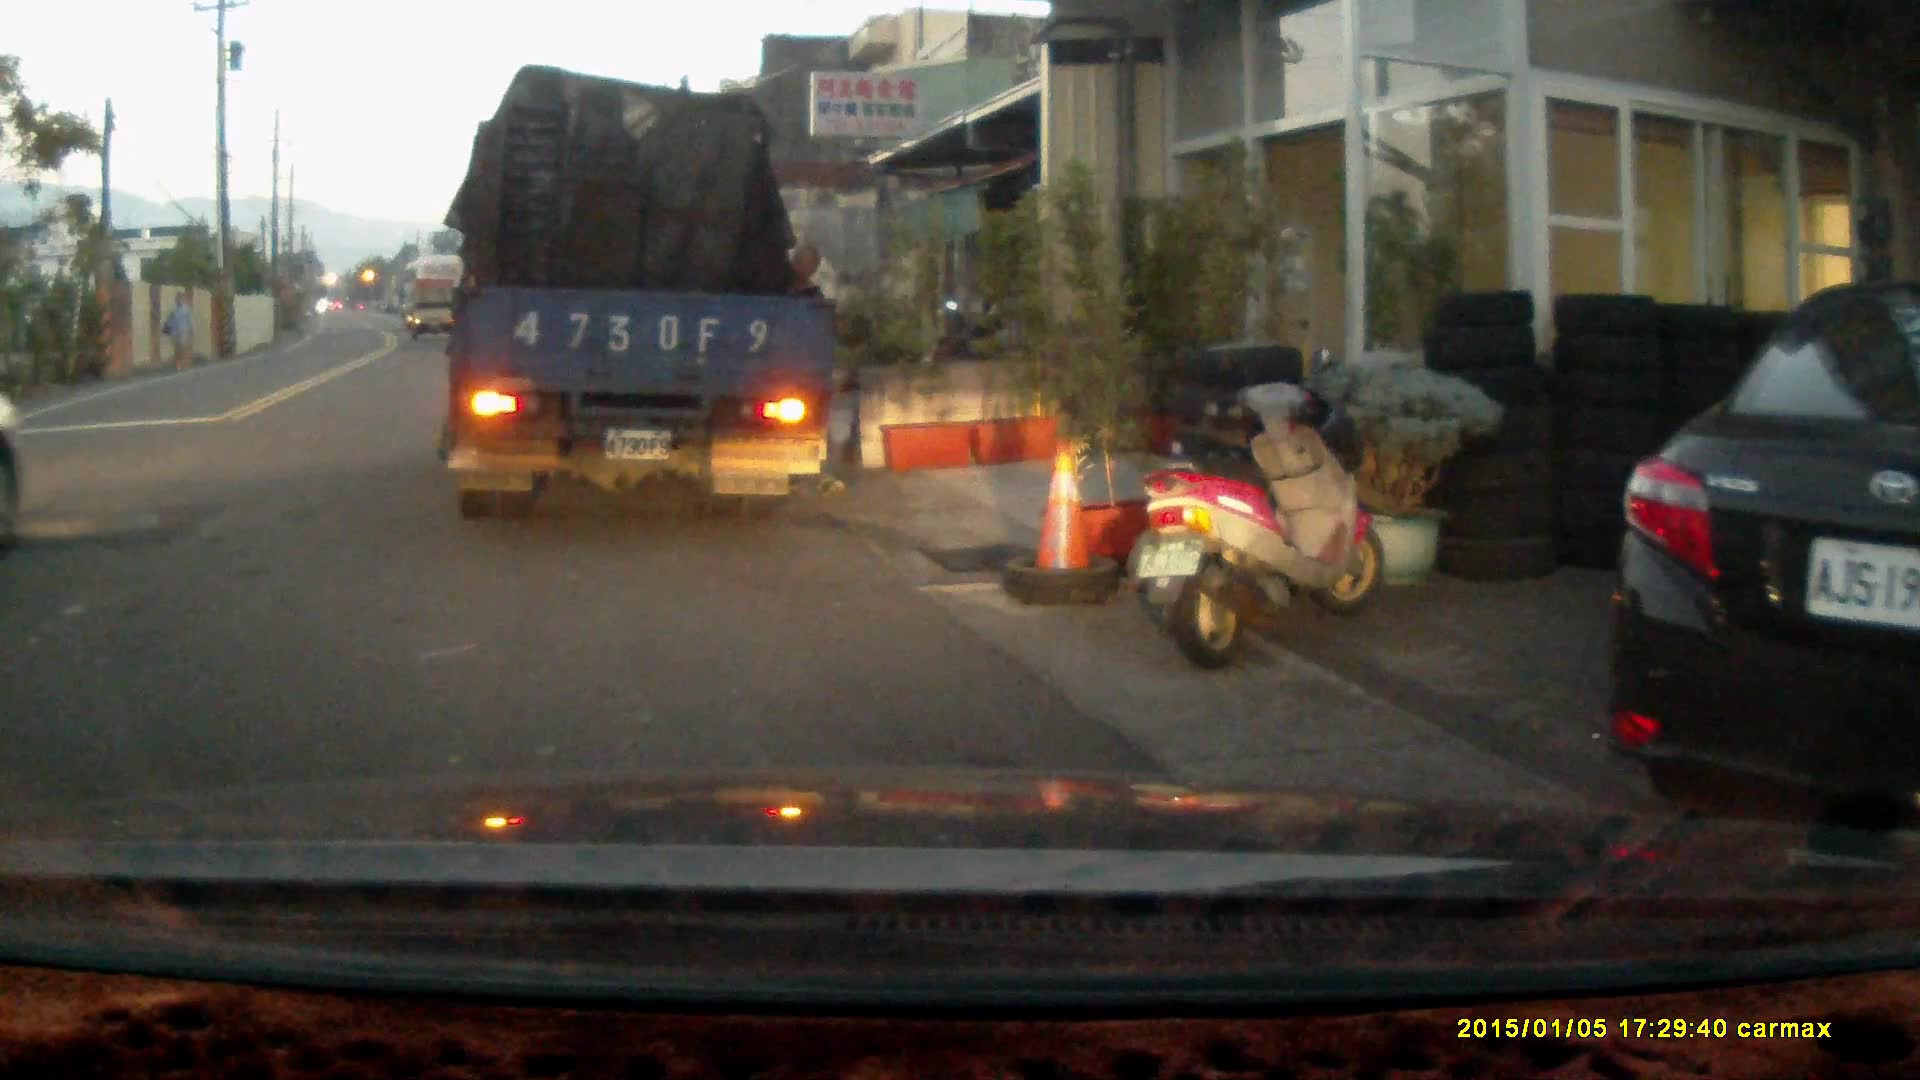pedestrian: (162, 289, 195, 363)
vehicle: (1598, 276, 1920, 859), (434, 79, 846, 508), (401, 251, 468, 331), (409, 283, 462, 339)
